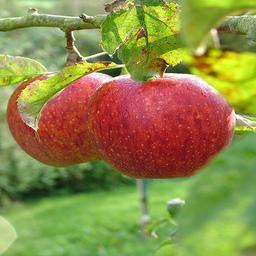apple: (86, 73, 235, 179), (7, 68, 113, 167)
